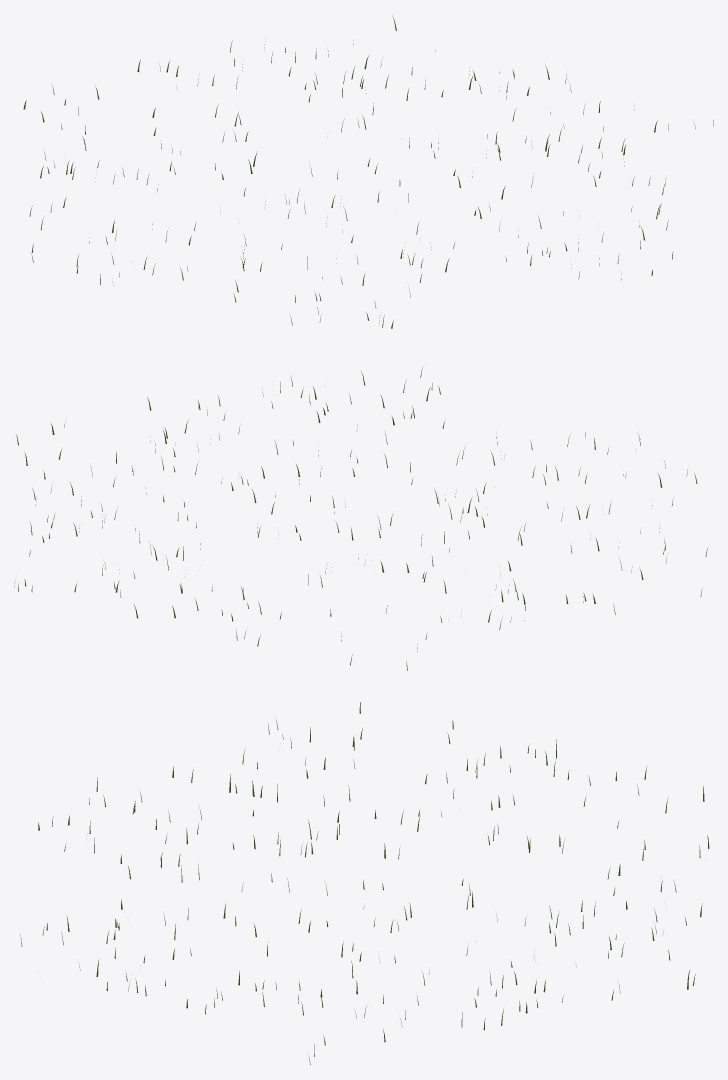
The picture shows the model from 3 angles, top to bottom: view 1: azimuth 30°, elevation 25°; view 2: azimuth 150°, elevation 25°; view 3: azimuth 270°, elevation 25°; orthographic projection. The views are drawn at different scales.
Visible parts, largest first — view 1: GrassPatch; view 2: GrassPatch; view 3: GrassPatch.
Boxes of the visible parts, bbox=[...] form: GrassPatch: bbox=[23, 15, 713, 328]; GrassPatch: bbox=[14, 367, 707, 670]; GrassPatch: bbox=[20, 702, 709, 1064].
Size of the model in its own units: 19.71 by 1 by 16.85.
